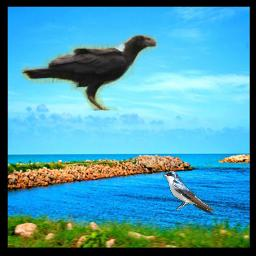Crow: (21, 34, 158, 111)
Swallow: (163, 171, 214, 214)
